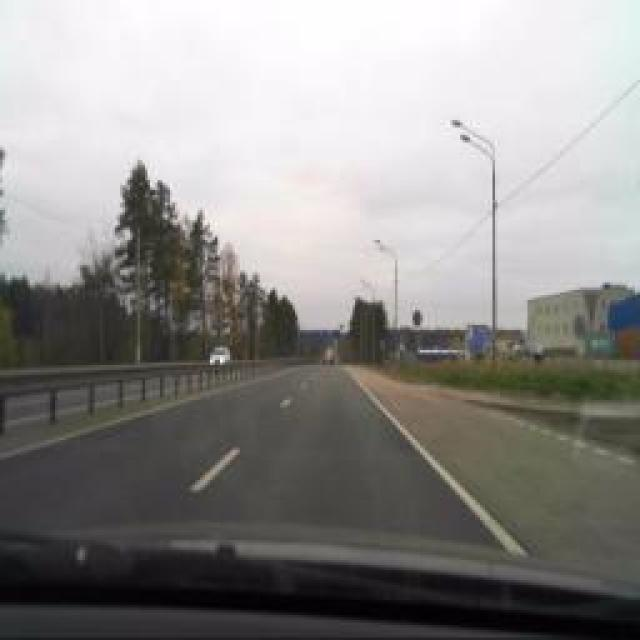sign: (408, 305, 424, 327)
